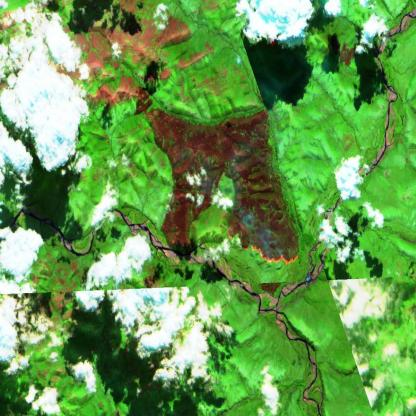fire: (225, 212, 301, 280)
